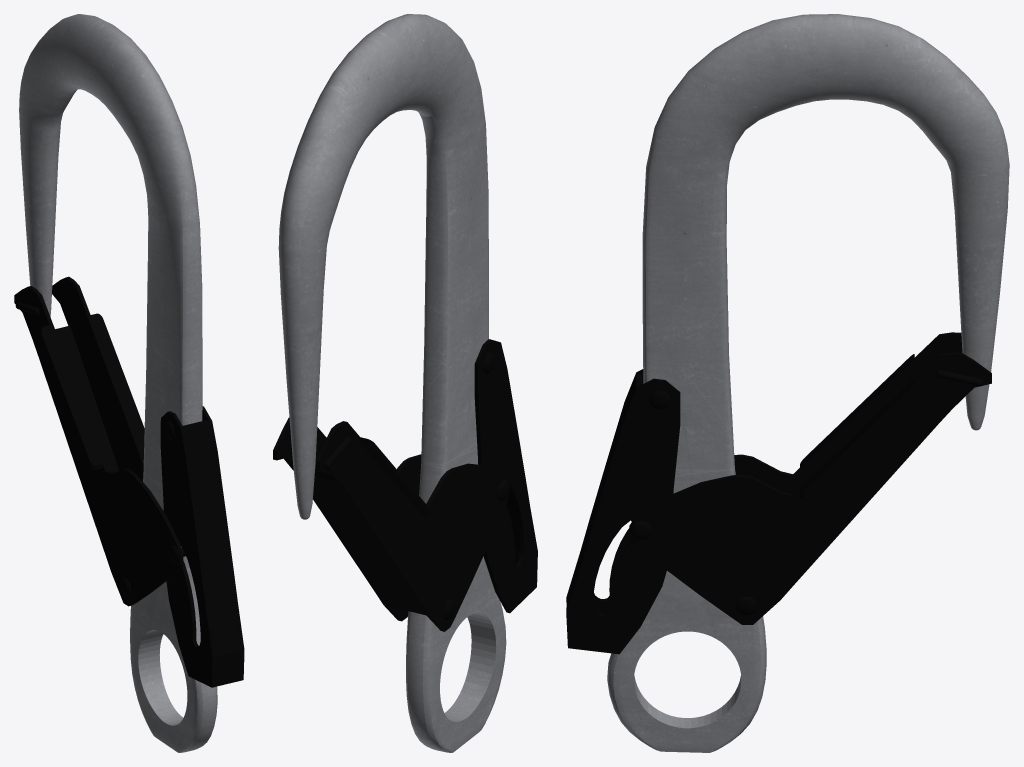
The model's file is CaboDeAnclaje.fbx.
3 views of the same model, side by side, from view 1: azimuth 30°, elevation 25°; view 2: azimuth 150°, elevation 25°; view 3: azimuth 270°, elevation 25° (orthographic). The views are drawn at different scales.
Visible parts, largest first — view 1: CaboAnclaje, PulsadorCaboAnclaje2, PulsadorCaboAnclaje1; view 2: CaboAnclaje, PulsadorCaboAnclaje2, PulsadorCaboAnclaje1; view 3: CaboAnclaje, PulsadorCaboAnclaje2, PulsadorCaboAnclaje1.
Part boxes in pixels (bbox=[...]): CaboAnclaje: bbox=[19, 14, 217, 752]; PulsadorCaboAnclaje2: bbox=[14, 276, 185, 606]; PulsadorCaboAnclaje1: bbox=[160, 406, 244, 687]; CaboAnclaje: bbox=[278, 14, 506, 752]; PulsadorCaboAnclaje2: bbox=[273, 417, 509, 631]; PulsadorCaboAnclaje1: bbox=[474, 339, 537, 613]; CaboAnclaje: bbox=[607, 14, 1009, 752]; PulsadorCaboAnclaje2: bbox=[629, 332, 991, 624]; PulsadorCaboAnclaje1: bbox=[566, 369, 680, 654].
Bounding box in the file's own units: 2.37 × 24.74 × 13.55.
2 materials, 1 textured.
